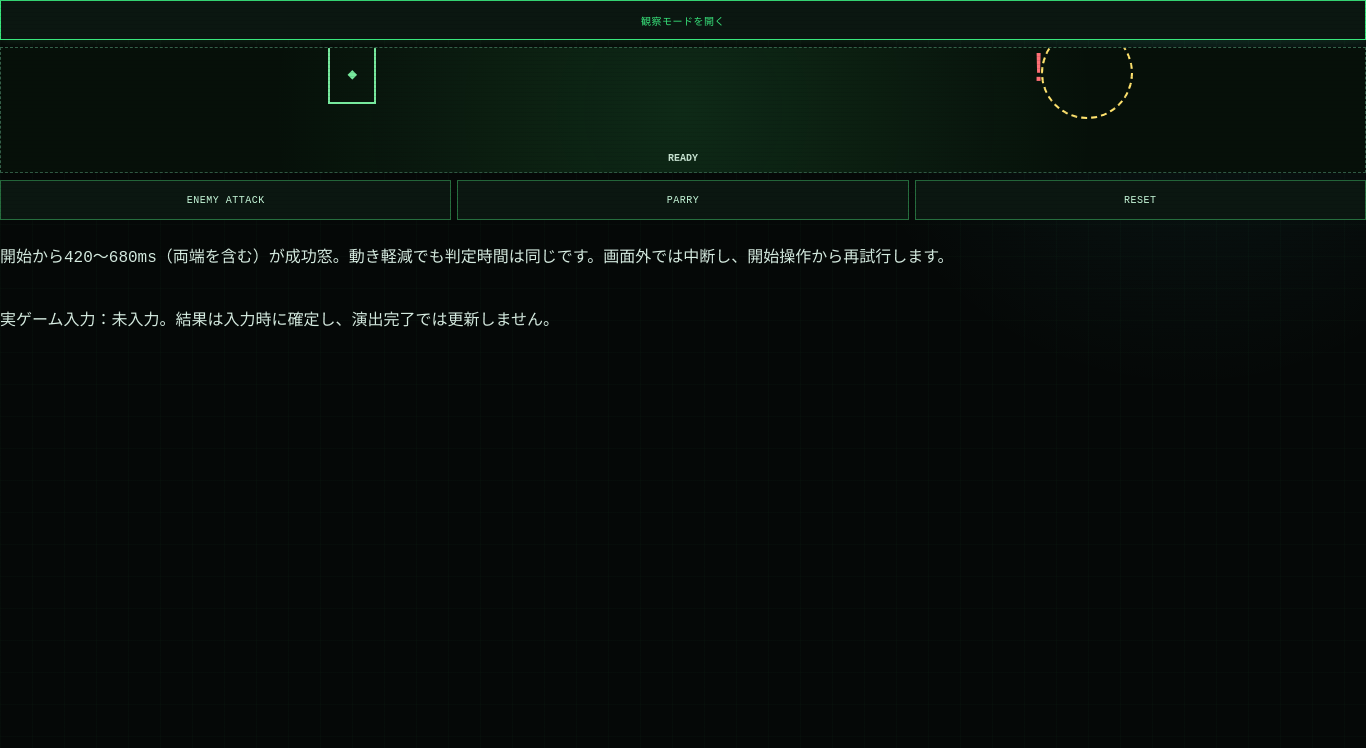
parry live game isolation › preserves confirmed result and recorded live input across observation and reset
Click the button "ENEMY ATTACK".
click(226, 200)  # box [0,180,451,220]
Wait 500 ms
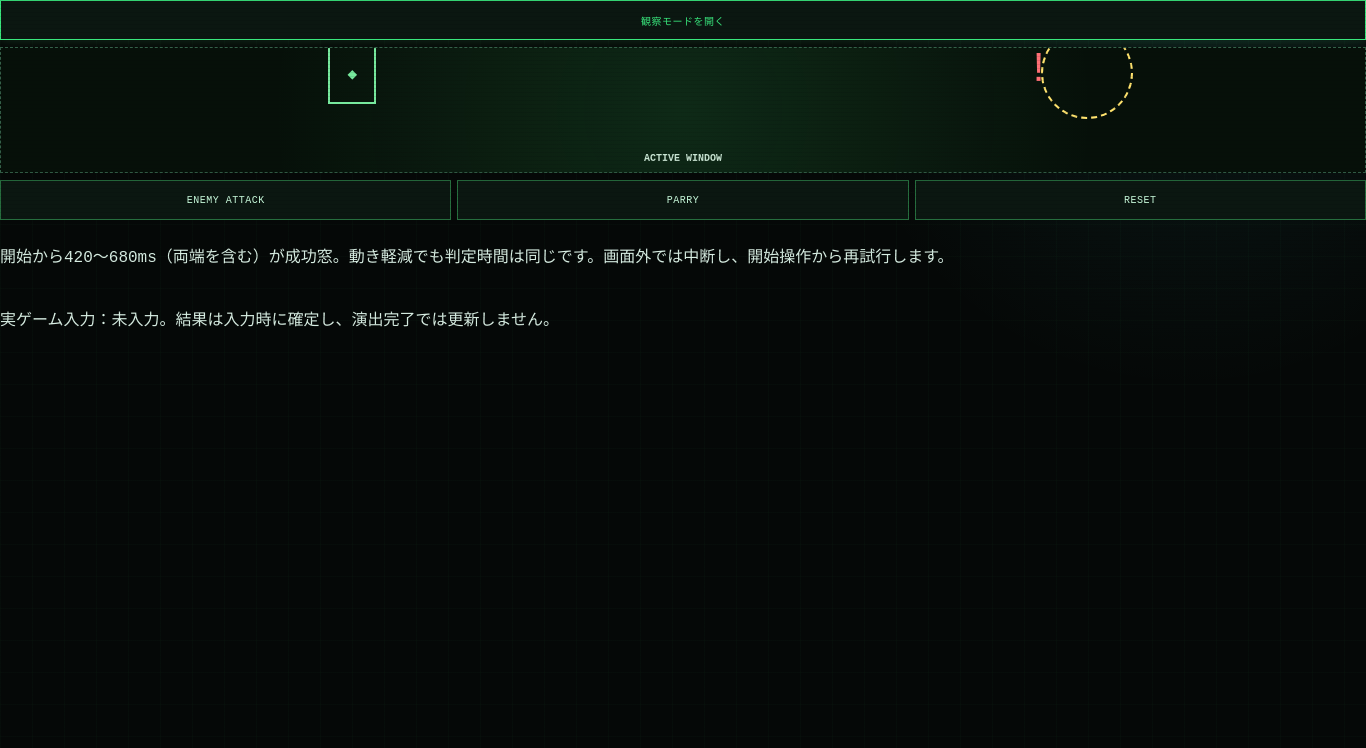
Click the button "PARRY".
click(683, 200)  # box [457,180,909,220]
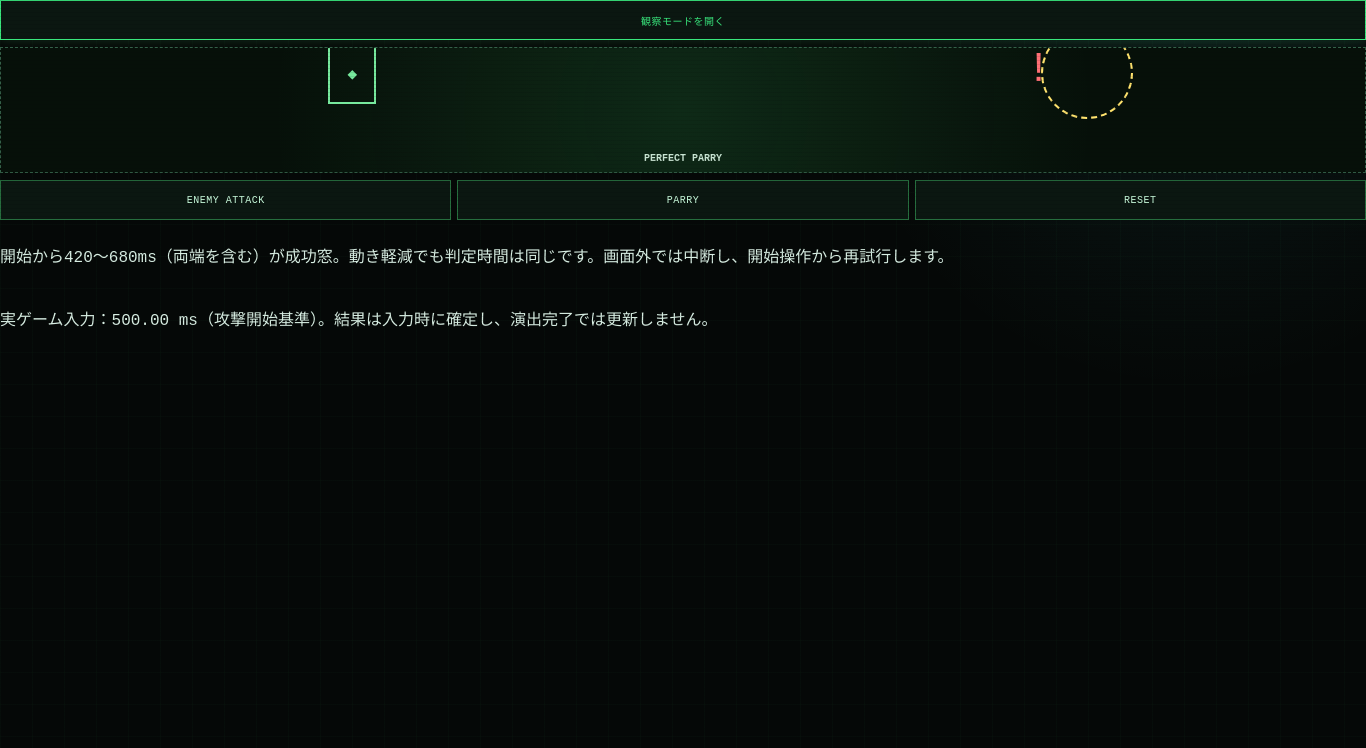
Click the button "観察モードを開く".
click(683, 20)  # box [0,0,1365,40]
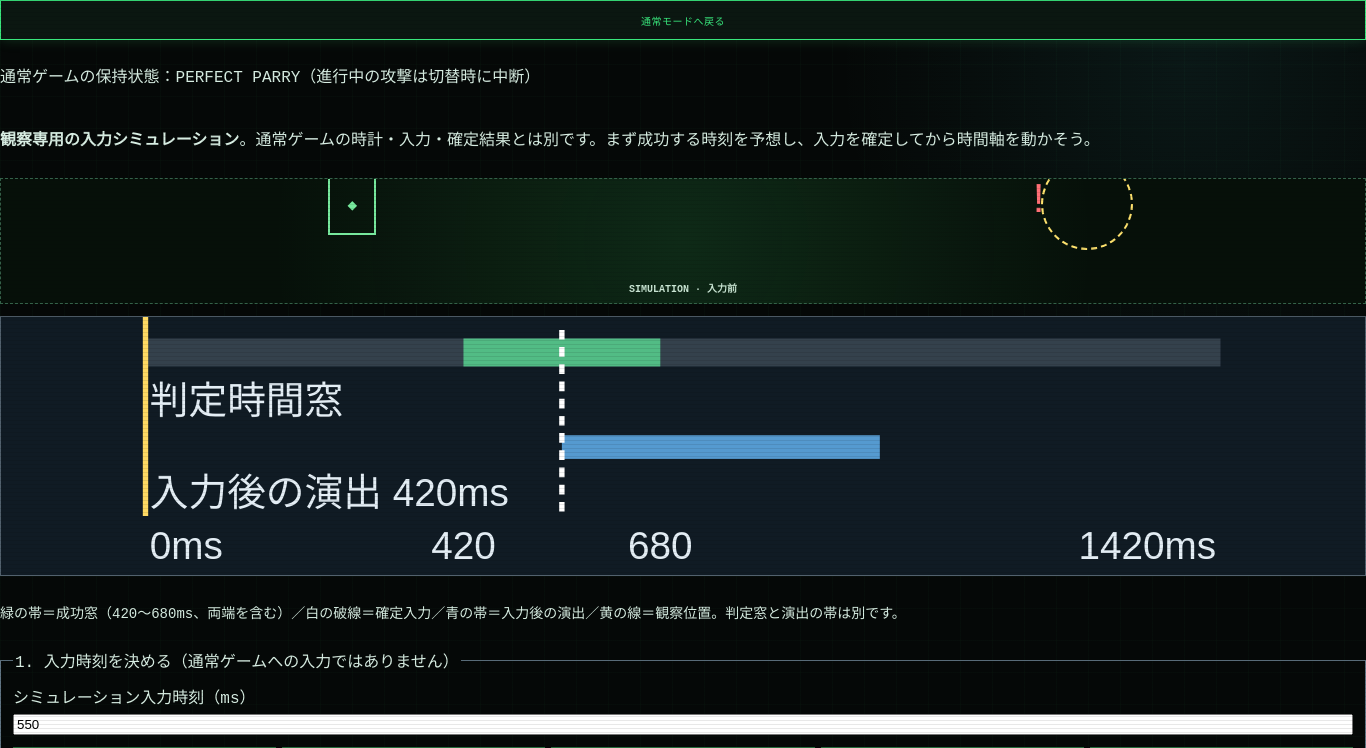
Click the button "通常モードへ戻る".
click(683, 20)  # box [0,0,1365,40]
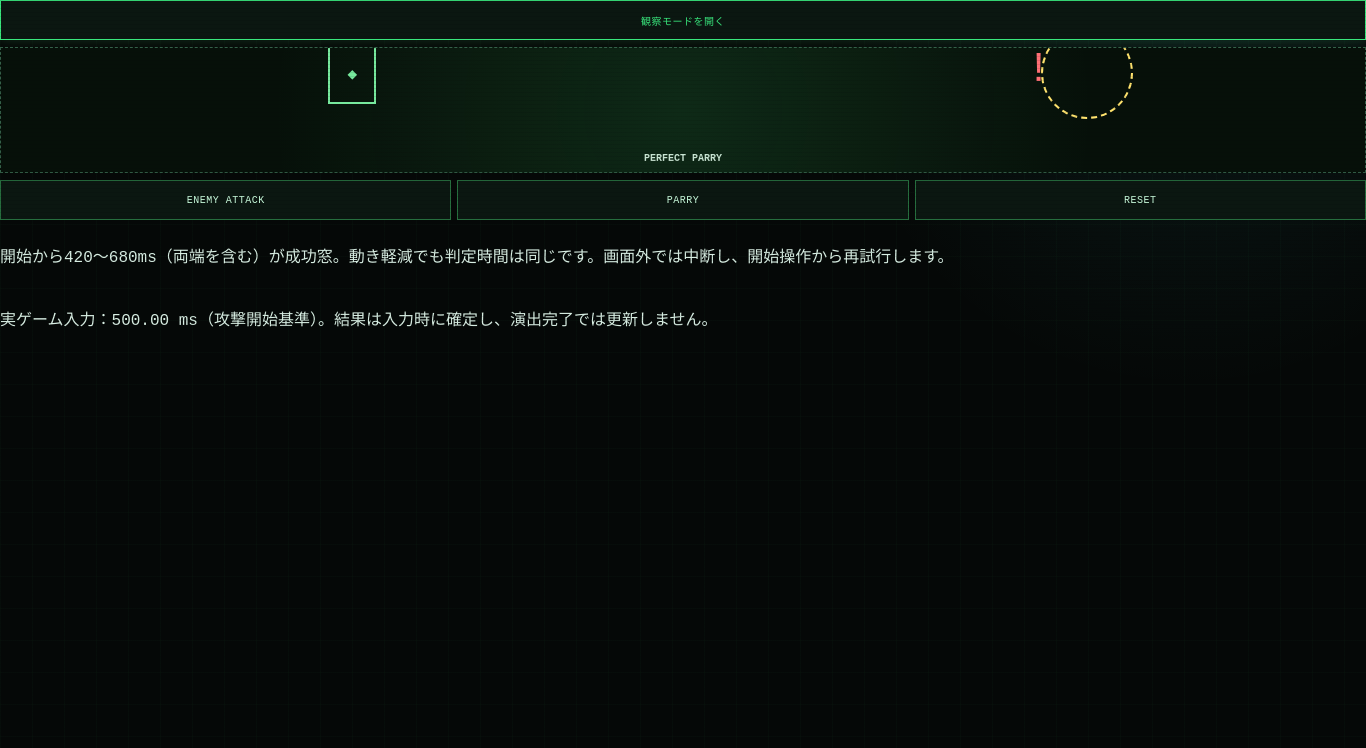
Now the text "PERFECT PARRY" is shown, box [644,153,722,164]
Click the button "RESET".
click(1140, 200)  # box [915,180,1365,220]
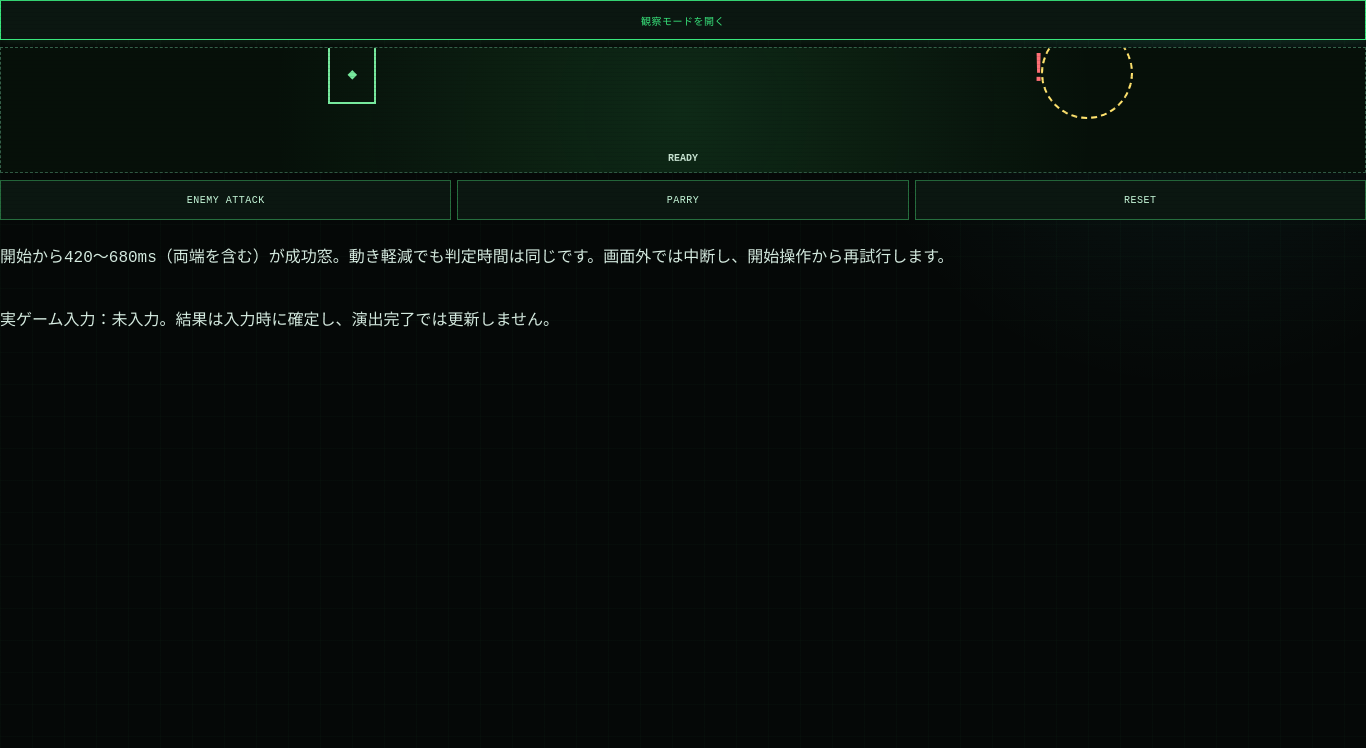
Now the text "READY" is shown, box [668,153,698,164]
Now the text "実ゲーム入力：未入力。結果は入力時に確定し、演出完了では更新しません。" is shown, box [0,312,559,330]
